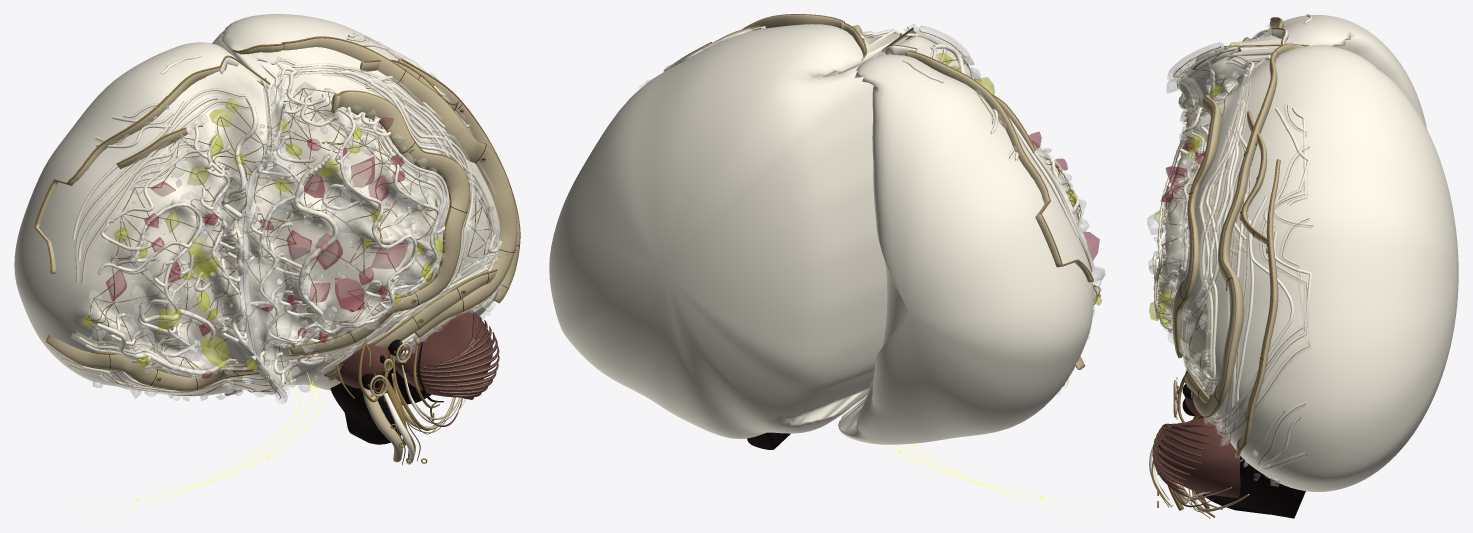
File: brain-sculpture.glb
3 renders of one model, left to right at view 1: azimuth 30°, elevation 25°; view 2: azimuth 150°, elevation 25°; view 3: azimuth 270°, elevation 25°, orthographic. The views are drawn at different scales.
Parts seen in each view (by area): view 1: LEFT | complete sculpted shell, RIGHT | complete sculpted shell, dominant_inner_right_serpent | nested clear anatomical fold. (×7), outer_right_crown_and_side, dominant_inner_right_serpent, outer_right_crown_and_side | nested clear anatomical fold.00 (×4), V3 | burgundy cerebellum sculpted body, cleft | convex clear interlocking shoulder, left_lower_serpent, V3 | curved medulla dark core, left_outer_upper_rim, lower_right_diagonal_support (+37 smaller); view 2: RIGHT | complete sculpted shell, LEFT | complete sculpted shell, left_outer_upper_rim, outer_right_crown_and_side; view 3: RIGHT | complete sculpted shell, outer_right_crown_and_side | nested clear anatomical fold.00 (×7), LEFT | complete sculpted shell, dominant_inner_right_serpent | nested clear anatomical fold. (×6), outer_right_crown_and_side, V3 | burgundy cerebellum sculpted body, dominant_inner_right_serpent, V3 | hindbrain recessed machinery, rightmost layered temple, right_upper_short_parallel | nested clear anatomical fold.00 (×3), cleft | convex clear interlocking shoulder, rightmost layered temple | nested clear anatomical fold.005 (+15 smaller).
Part boxes in pixels (<box>): LEFT | complete sculpted shell: <box>14,42,276,396</box>; RIGHT | complete sculpted shell: <box>212,14,500,390</box>; dominant_inner_right_serpent | nested clear anatomical fold. (×7): <box>289,66,475,364</box>; outer_right_crown_and_side: <box>282,36,517,337</box>; dominant_inner_right_serpent: <box>288,90,469,354</box>; outer_right_crown_and_side | nested clear anatomical fold.00 (×4): <box>292,63,499,311</box>; V3 | burgundy cerebellum sculpted body: <box>395,309,492,397</box>; cleft | convex clear interlocking shoulder: <box>236,85,287,404</box>; left_lower_serpent: <box>45,335,257,390</box>; V3 | curved medulla dark core: <box>330,379,401,444</box>; left_outer_upper_rim: <box>34,68,219,273</box>; lower_right_diagonal_support: <box>324,270,496,378</box>; RIGHT | complete sculpted shell: <box>549,24,899,438</box>; LEFT | complete sculpted shell: <box>838,36,1097,444</box>; left_outer_upper_rim: <box>905,51,1092,282</box>; outer_right_crown_and_side: <box>742,14,843,29</box>; RIGHT | complete sculpted shell: <box>1158,45,1458,491</box>; outer_right_crown_and_side | nested clear anatomical fold.00 (×7): <box>1186,66,1311,436</box>; LEFT | complete sculpted shell: <box>1178,15,1426,128</box>; dominant_inner_right_serpent | nested clear anatomical fold. (×6): <box>1161,83,1247,370</box>; outer_right_crown_and_side: <box>1191,51,1278,417</box>; V3 | burgundy cerebellum sculpted body: <box>1156,416,1240,497</box>; dominant_inner_right_serpent: <box>1172,95,1221,358</box>; V3 | hindbrain recessed machinery: <box>1236,456,1305,518</box>; rightmost layered temple: <box>1236,159,1280,455</box>; right_upper_short_parallel | nested clear anatomical fold.00 (×3): <box>1216,103,1311,256</box>; cleft | convex clear interlocking shoulder: <box>1167,42,1224,339</box>; rightmost layered temple | nested clear anatomical fold.005: <box>1226,166,1252,442</box>.
Size of the model in its own units: 3.57 by 3.02 by 1.99.
